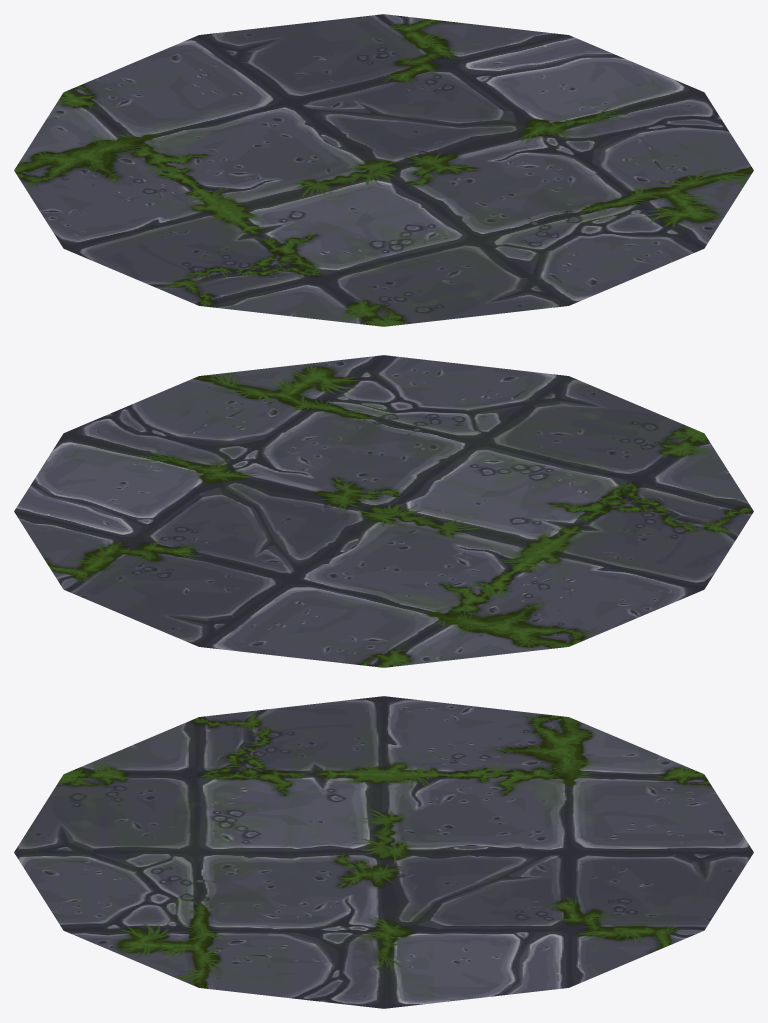
Rendered from MOD_Floor_01_O_convex_med_2.fbx.
3 views of the same model, one above another, from view 1: azimuth 30°, elevation 25°; view 2: azimuth 150°, elevation 25°; view 3: azimuth 270°, elevation 25° (orthographic).
Parts seen in each view (by area): view 1: MOD_Floor_01_O_convex_med_2; view 2: MOD_Floor_01_O_convex_med_2; view 3: MOD_Floor_01_O_convex_med_2.
Part boxes in pixels (x1,y1,x2,y2): MOD_Floor_01_O_convex_med_2: (14,14,753,326); MOD_Floor_01_O_convex_med_2: (14,355,753,667); MOD_Floor_01_O_convex_med_2: (14,696,753,1008).
Size of the model in its own units: 400 by 0 by 400.
